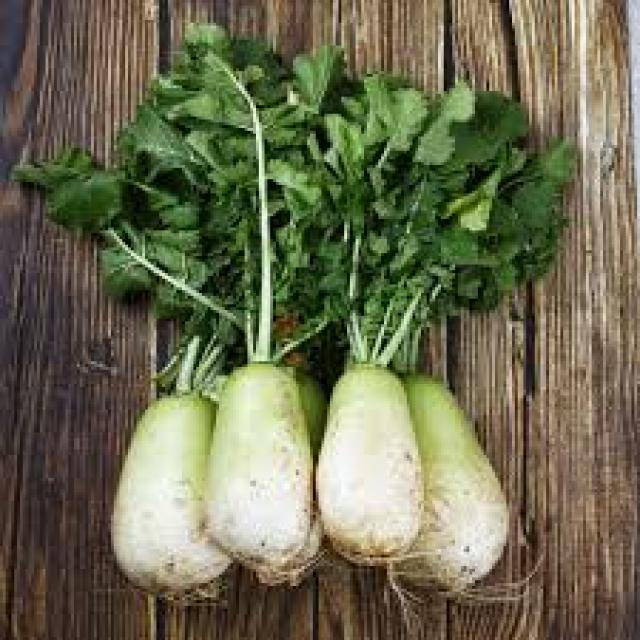Radish: (111, 341, 230, 594), (208, 364, 319, 567), (319, 364, 424, 559)
